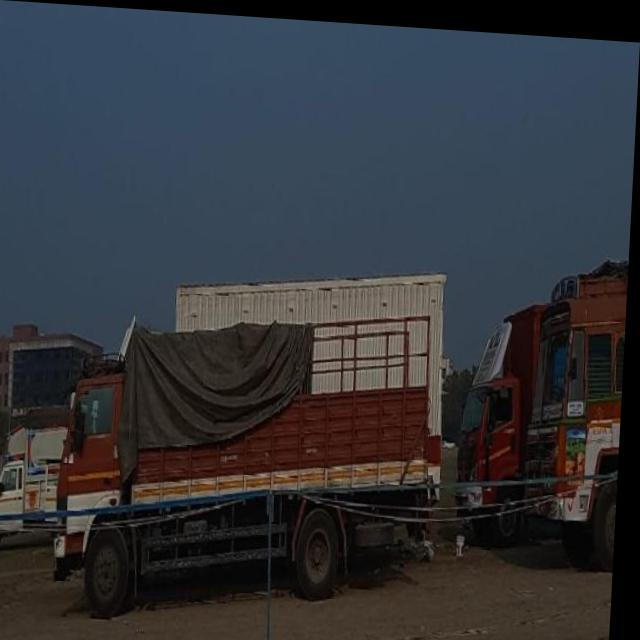uncovered: (69, 284, 452, 574)
